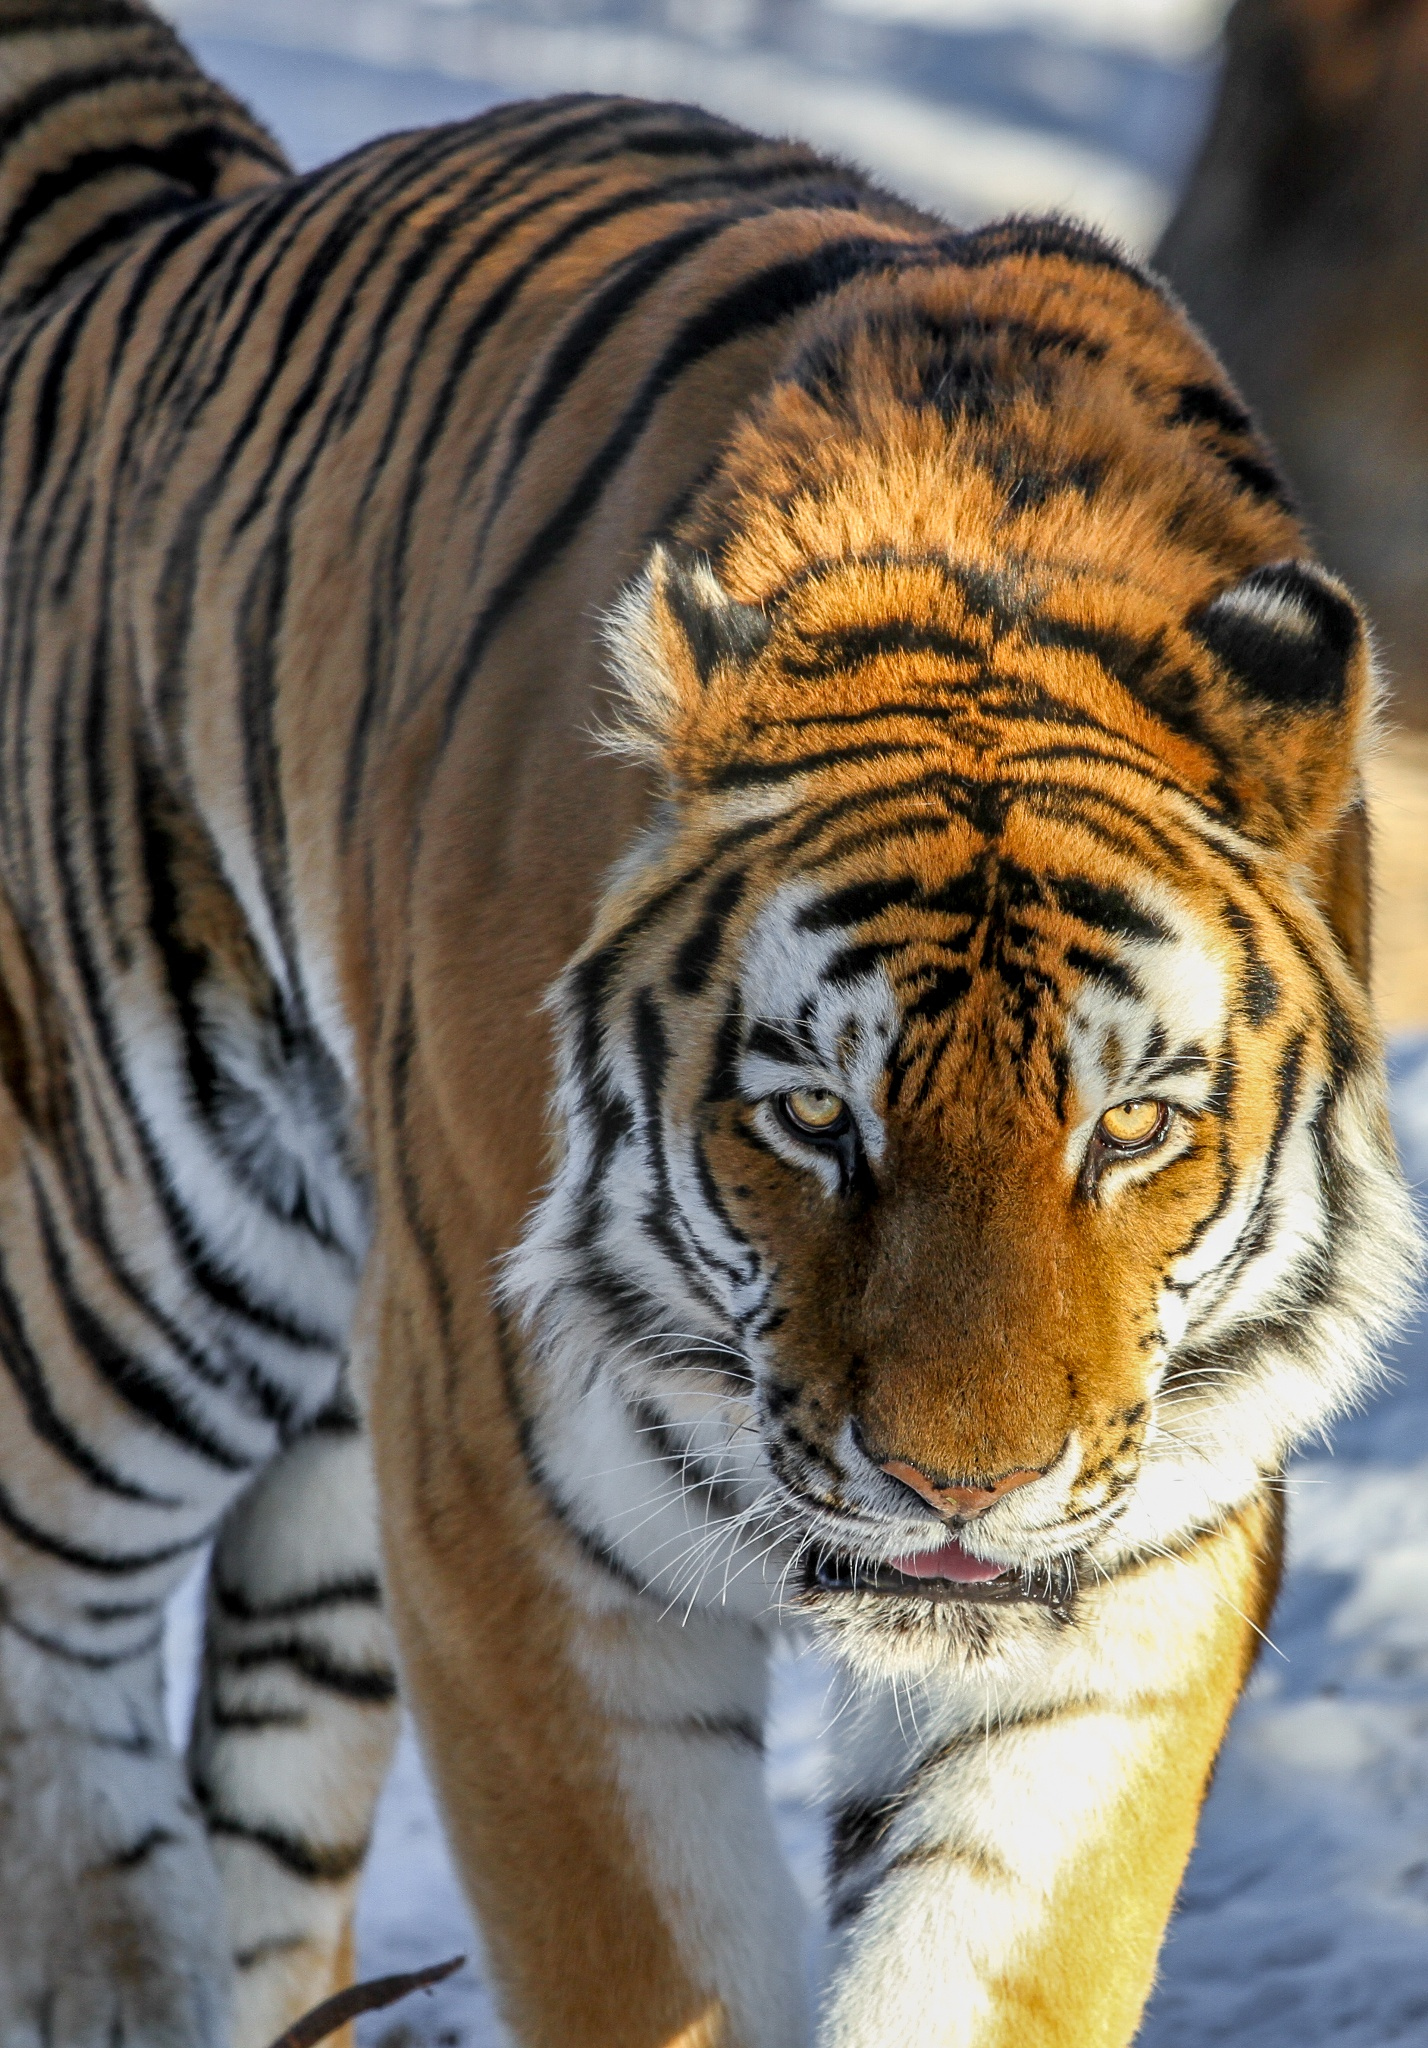tiger: (115, 110, 1394, 1970)
